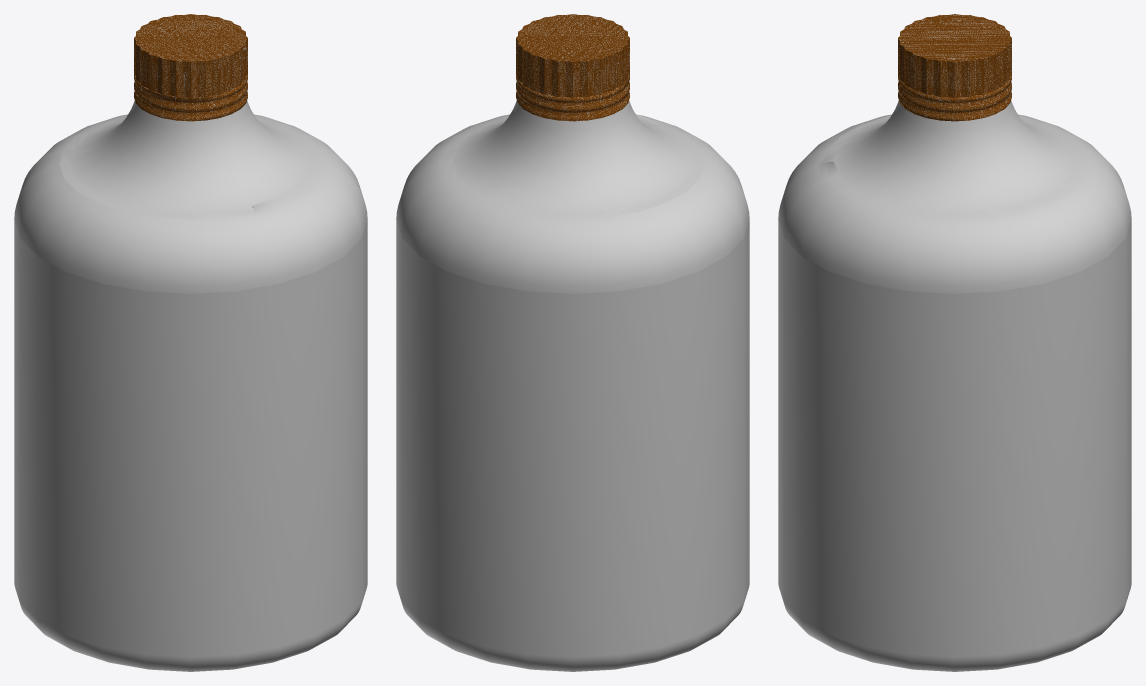
3 renders of one model, left to right at view 1: azimuth 30°, elevation 25°; view 2: azimuth 150°, elevation 25°; view 3: azimuth 270°, elevation 25°, orthographic.
Parts seen in each view (by area): view 1: mesh1_mesh1-geometry; view 2: mesh1_mesh1-geometry; view 3: mesh1_mesh1-geometry.
Part boxes in pixels (x1=…): mesh1_mesh1-geometry: x1=14, y1=14, x2=367, y2=671; mesh1_mesh1-geometry: x1=396, y1=14, x2=749, y2=671; mesh1_mesh1-geometry: x1=778, y1=14, x2=1131, y2=671.
Size of the model in its own units: 0.4411 by 0.7816 by 0.4411.
